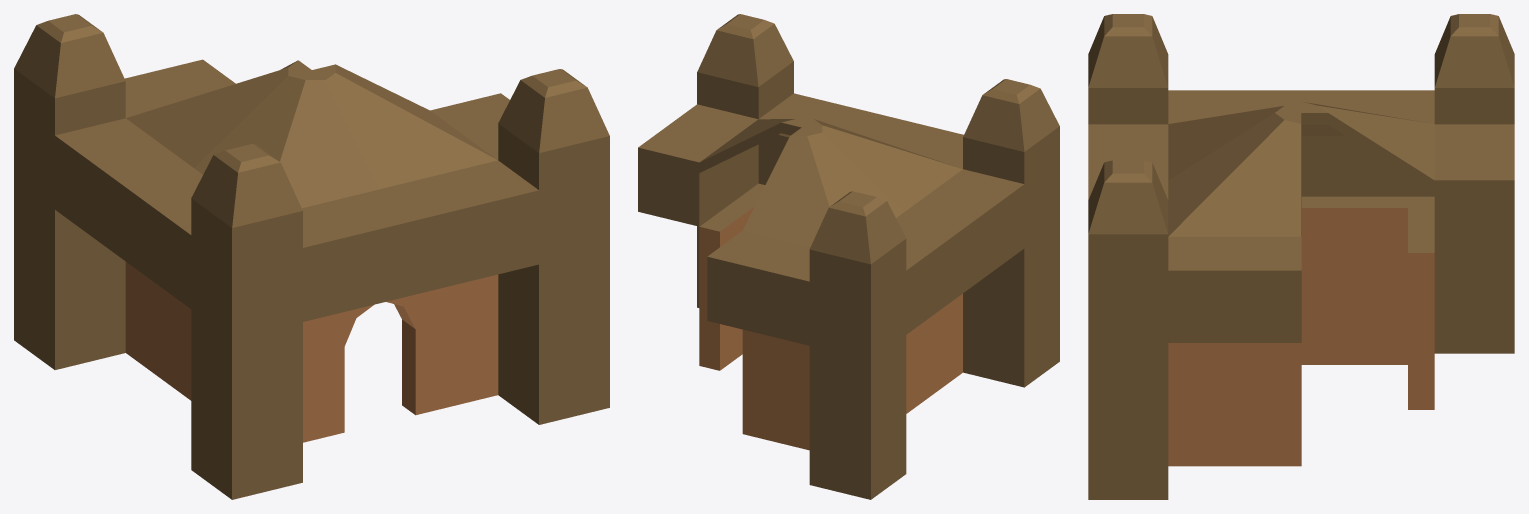
File: TownHall.fbx
3 renders of one model, left to right at view 1: azimuth 30°, elevation 25°; view 2: azimuth 150°, elevation 25°; view 3: azimuth 270°, elevation 25°, orthographic. The views are drawn at different scales.
Visible parts, largest first — view 1: TownHall_Top_Corner_Door, TownHall_Top_Corner_Door_Mirrored, TownHall_Top_Corner, TownHall_Bot_Corner_Door_Mirrored, TownHall_Bot_Corner, TownHall_Bot_Corner_Door; view 2: TownHall_Top_Corner, TownHall_Top_Corner_Door, TownHall_Top_Corner_Door_Mirrored, TownHall_Bot_Corner, TownHall_Bot_Corner_Door, TownHall_Bot_Corner_Door_Mirrored; view 3: TownHall_Top_Corner_Door_Mirrored, TownHall_Top_Corner, TownHall_Bot_Corner_Door_Mirrored, TownHall_Bot_Corner, TownHall_Top_Corner_Door.
Boxes of the visible parts, box(x1,y1,x2,y2) form: TownHall_Top_Corner_Door: box(123, 70, 420, 376); TownHall_Top_Corner_Door_Mirrored: box(312, 64, 609, 301); TownHall_Top_Corner: box(14, 14, 311, 258); TownHall_Bot_Corner_Door_Mirrored: box(386, 274, 609, 424); TownHall_Bot_Corner: box(14, 217, 191, 400); TownHall_Bot_Corner_Door: box(191, 305, 373, 499); TownHall_Top_Corner: box(707, 127, 965, 392); TownHall_Top_Corner_Door: box(802, 79, 1059, 291); TownHall_Top_Corner_Door_Mirrored: box(638, 14, 895, 260); TownHall_Bot_Corner: box(742, 329, 906, 499); TownHall_Bot_Corner_Door: box(906, 255, 1059, 413); TownHall_Bot_Corner_Door_Mirrored: box(697, 226, 742, 370); TownHall_Top_Corner_Door_Mirrored: box(1088, 113, 1301, 379); TownHall_Top_Corner: box(1301, 14, 1514, 288); TownHall_Bot_Corner_Door_Mirrored: box(1088, 345, 1301, 499); TownHall_Bot_Corner: box(1301, 244, 1514, 409); TownHall_Top_Corner_Door: box(1088, 14, 1301, 180).
Size of the model in its own units: 320 by 262 by 320.
